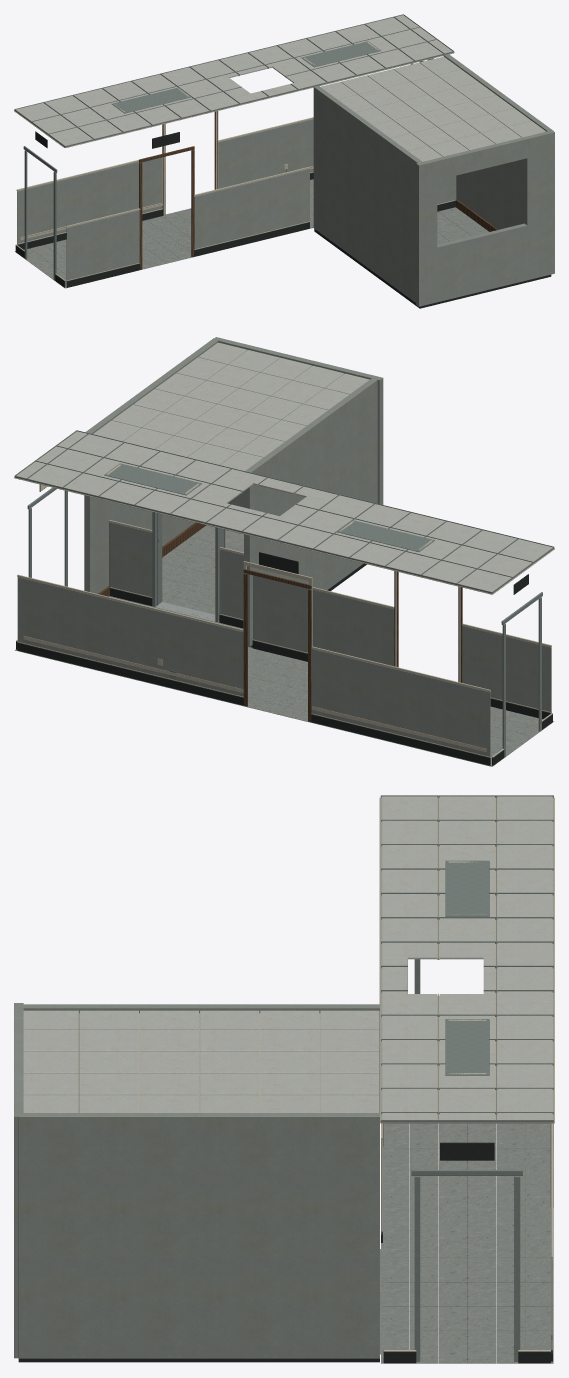
Rendered from SM_Office_Room.fbx.
3 renders of one model, top to bottom at view 1: azimuth 30°, elevation 25°; view 2: azimuth 150°, elevation 25°; view 3: azimuth 270°, elevation 25°, orthographic. The views are drawn at different scales.
Parts seen in each view (by area): view 1: SM_Office_Room; view 2: SM_Office_Room; view 3: SM_Office_Room.
Part boxes in pixels (box(x1,y1,x2,y2)): SM_Office_Room: box(14, 14, 554, 308); SM_Office_Room: box(14, 337, 554, 766); SM_Office_Room: box(14, 795, 554, 1363).
Bounding box in the file's own units: 8.02 × 5.63 × 2.87.
